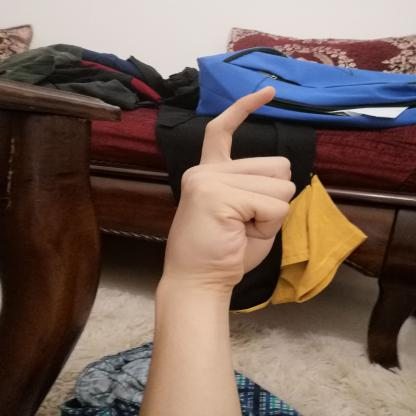RAA: (149, 75, 307, 299)
